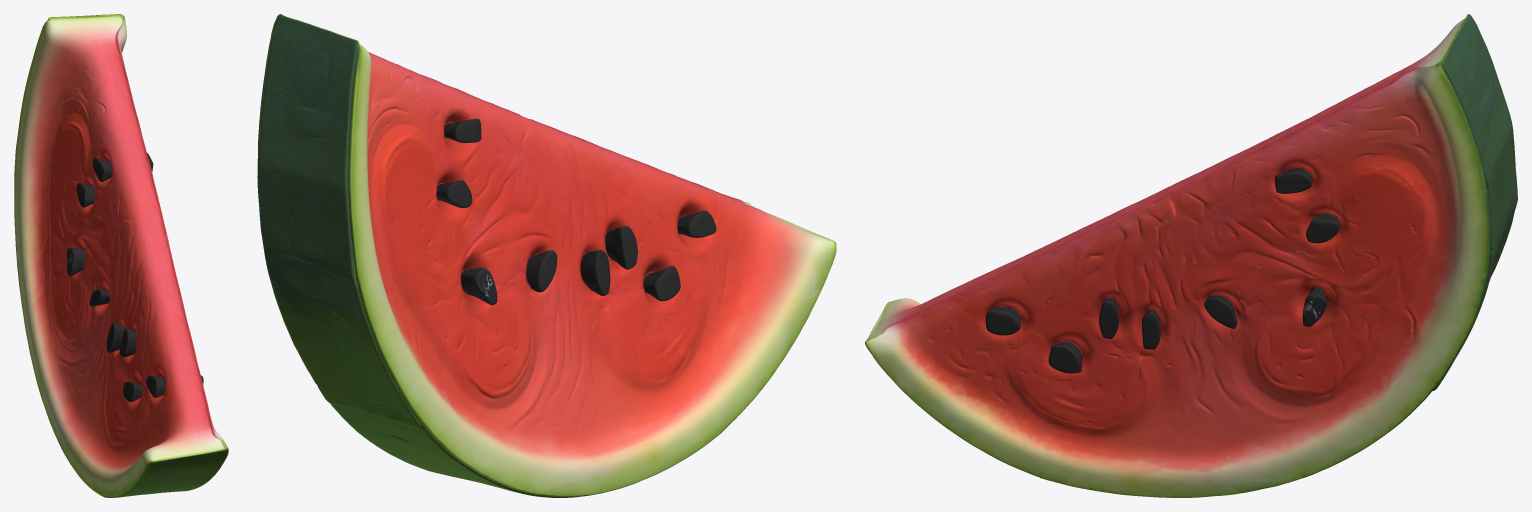
The model's file is watermelon_with_embedded_texture.glb.
3 renders of one model, left to right at view 1: azimuth 30°, elevation 25°; view 2: azimuth 150°, elevation 25°; view 3: azimuth 270°, elevation 25°, orthographic. The views are drawn at different scales.
Visible parts, largest first — view 1: tripo_node_69c90f5c-39fe-4241-b4b7-28c8233eb6de; view 2: tripo_node_69c90f5c-39fe-4241-b4b7-28c8233eb6de; view 3: tripo_node_69c90f5c-39fe-4241-b4b7-28c8233eb6de.
Part boxes in pixels (x1=…): tripo_node_69c90f5c-39fe-4241-b4b7-28c8233eb6de: x1=14, y1=14, x2=228, y2=497; tripo_node_69c90f5c-39fe-4241-b4b7-28c8233eb6de: x1=257, y1=14, x2=836, y2=497; tripo_node_69c90f5c-39fe-4241-b4b7-28c8233eb6de: x1=865, y1=14, x2=1517, y2=497.
Size of the model in its own units: 0.43 by 0.8333 by 1.
Materials: 1 (1 with a texture image).
